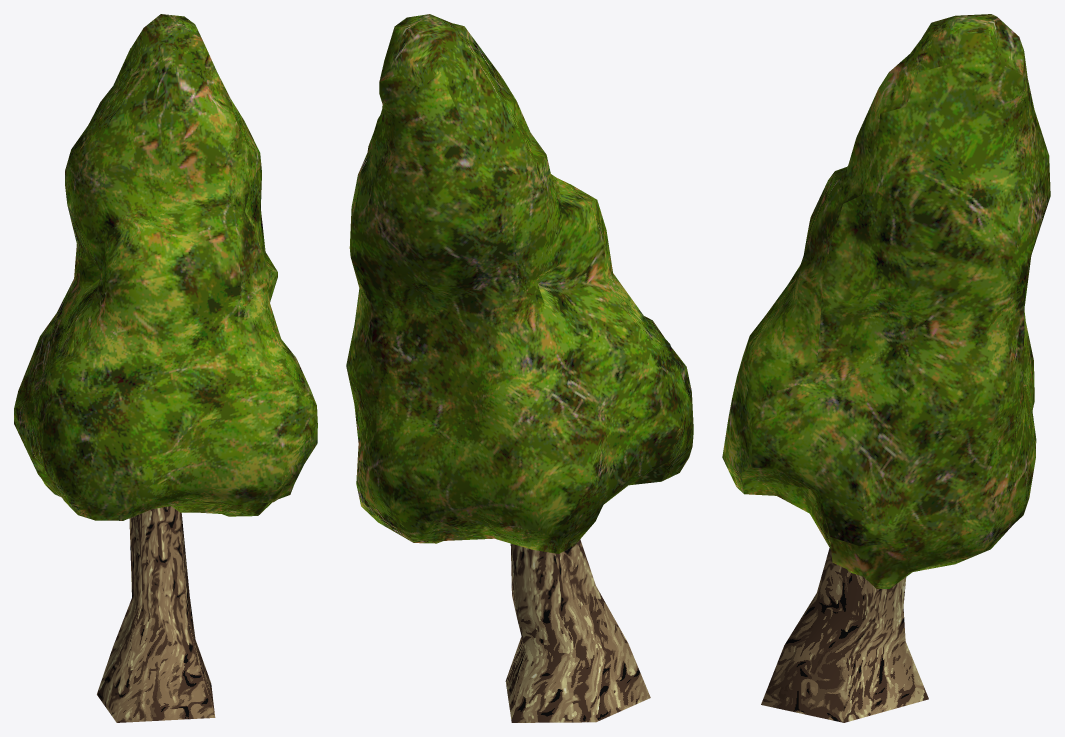
Rendered from Pine Tree.fbx.
3 views of the same model, side by side, from view 1: azimuth 30°, elevation 25°; view 2: azimuth 150°, elevation 25°; view 3: azimuth 270°, elevation 25° (orthographic). The views are drawn at different scales.
Parts seen in each view (by area): view 1: tree2; view 2: tree2; view 3: tree2.
Part boxes in pixels (box(x1,y1,x2,y2)): tree2: box(14, 14, 317, 722); tree2: box(346, 14, 693, 722); tree2: box(722, 14, 1050, 722).
Bounding box in the file's own units: 1.85 × 4.15 × 1.73.
